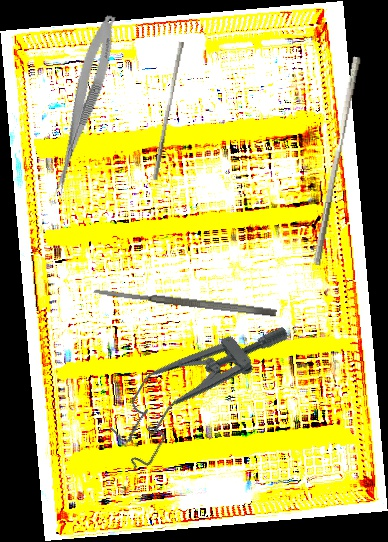Micro Scissor: (47, 11, 122, 203)
Pusher: (312, 55, 362, 267), (152, 40, 185, 182)
Spatula Surgical: (93, 285, 277, 319)
Speculum: (93, 291, 300, 475)
